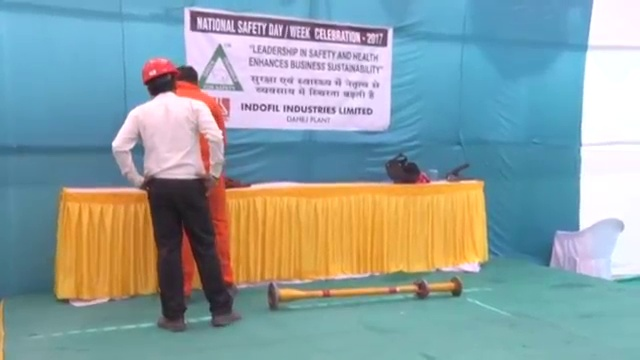helmet: (140, 56, 180, 82)
helmet_off: (175, 63, 199, 88)
helmet_on: (139, 56, 182, 101)
person: (116, 56, 236, 326), (170, 55, 243, 295)
